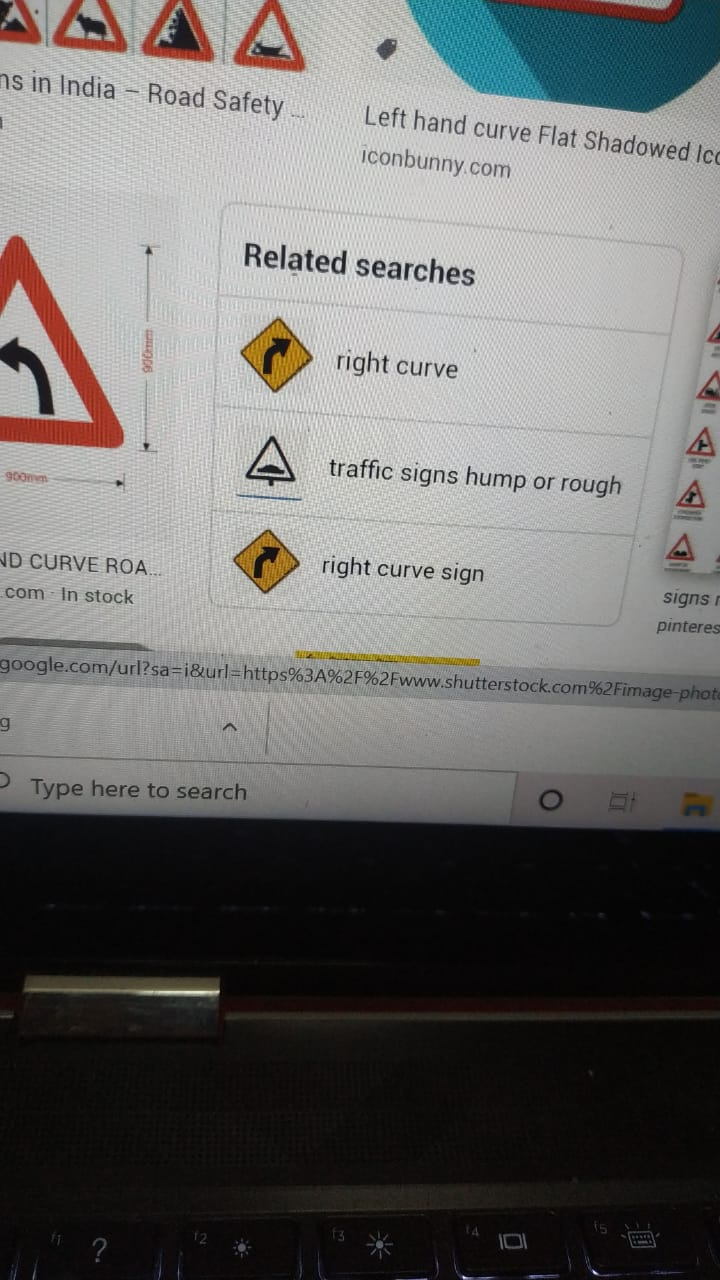NO ENTRY: (1, 221, 159, 475)
